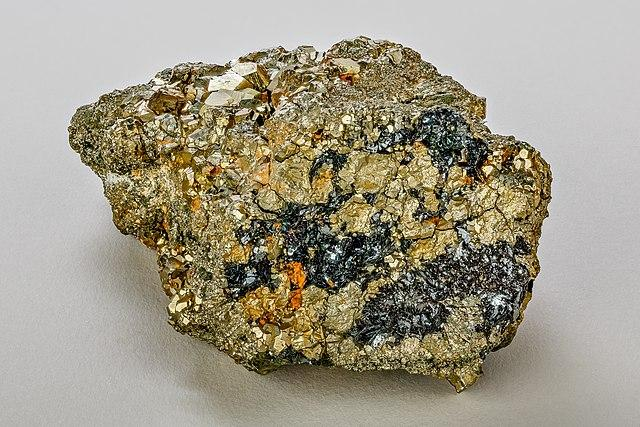pyrite: (61, 33, 557, 402)
